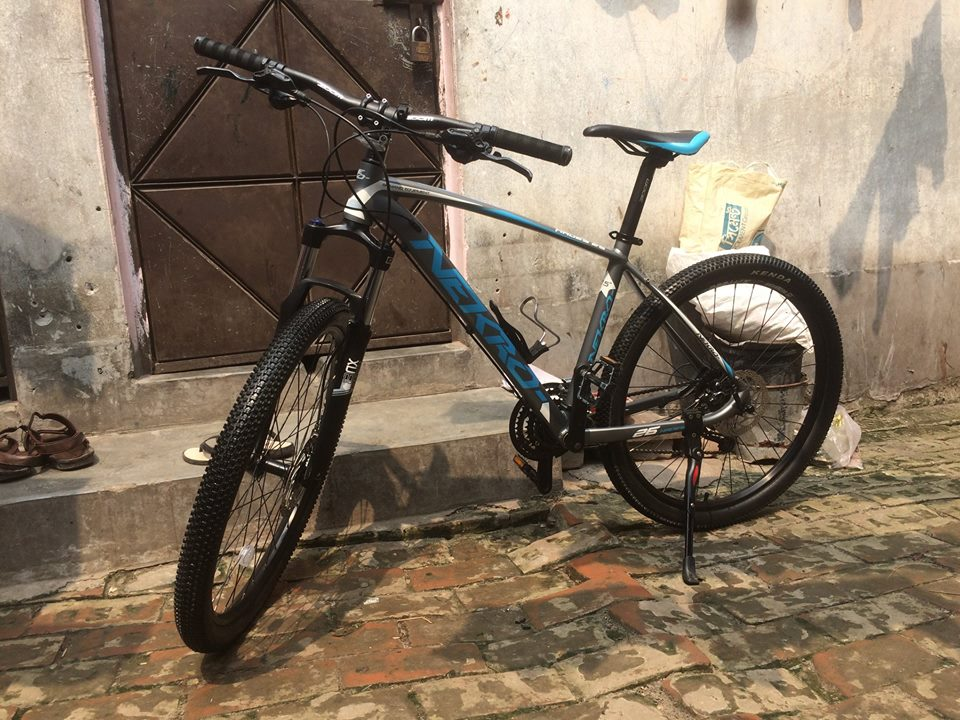bicycle: (133, 10, 844, 667)
